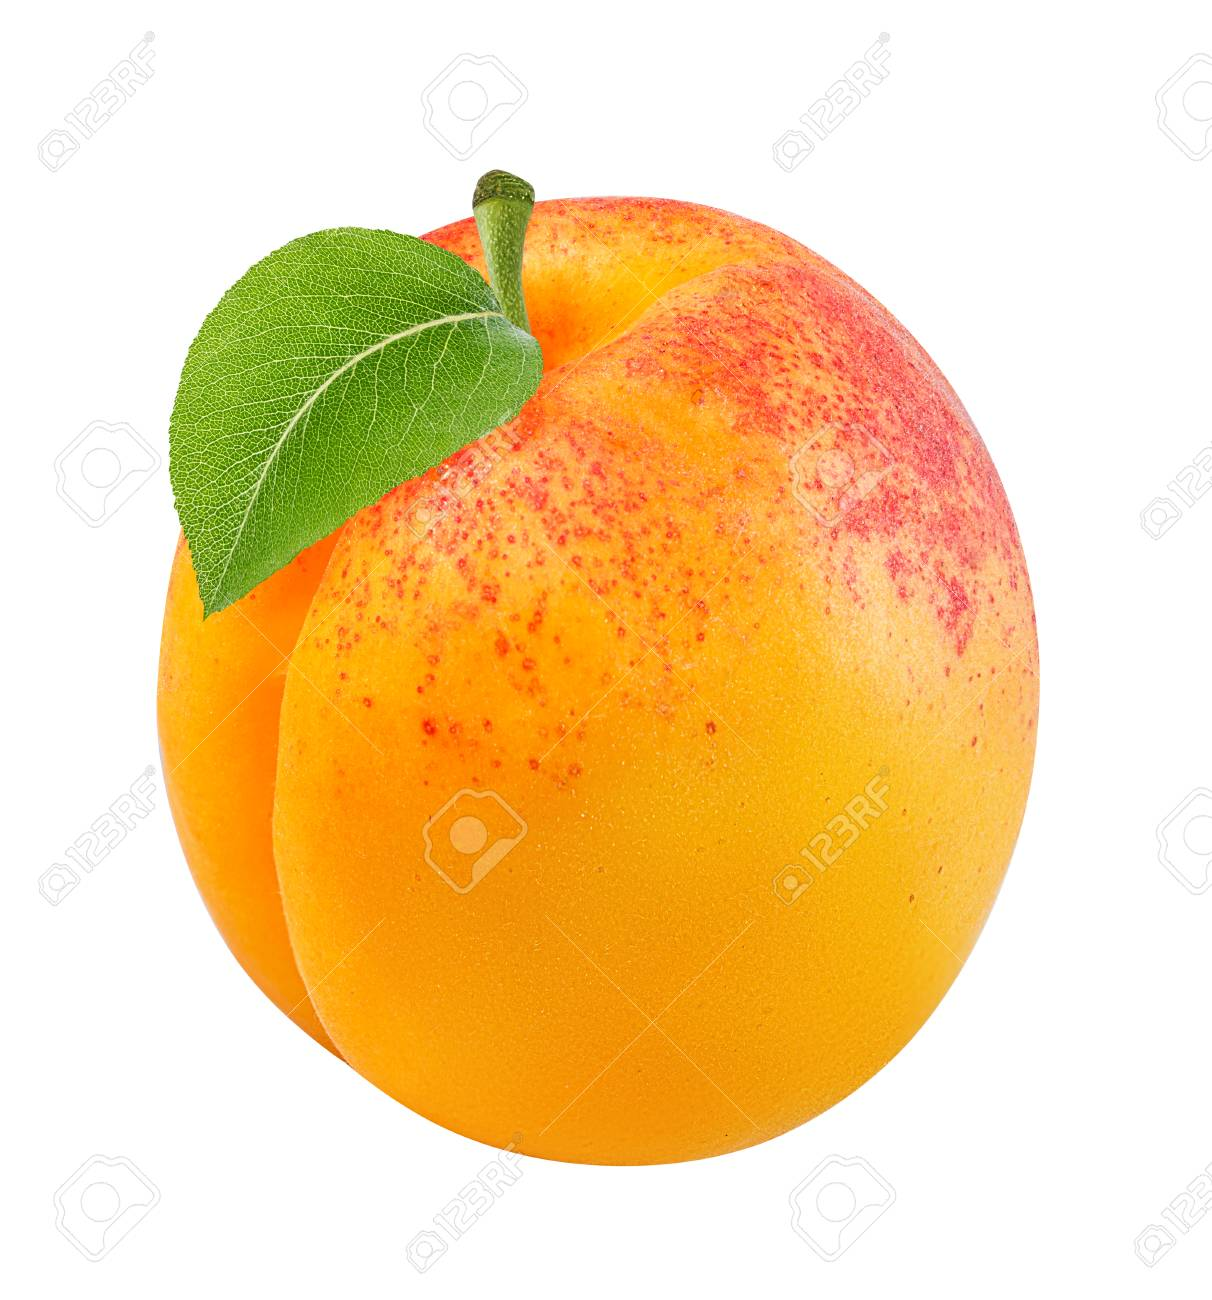Apricot 17cal Avocado Tropical Smoothie missing:Kiwi: (167, 175, 1043, 1176)
